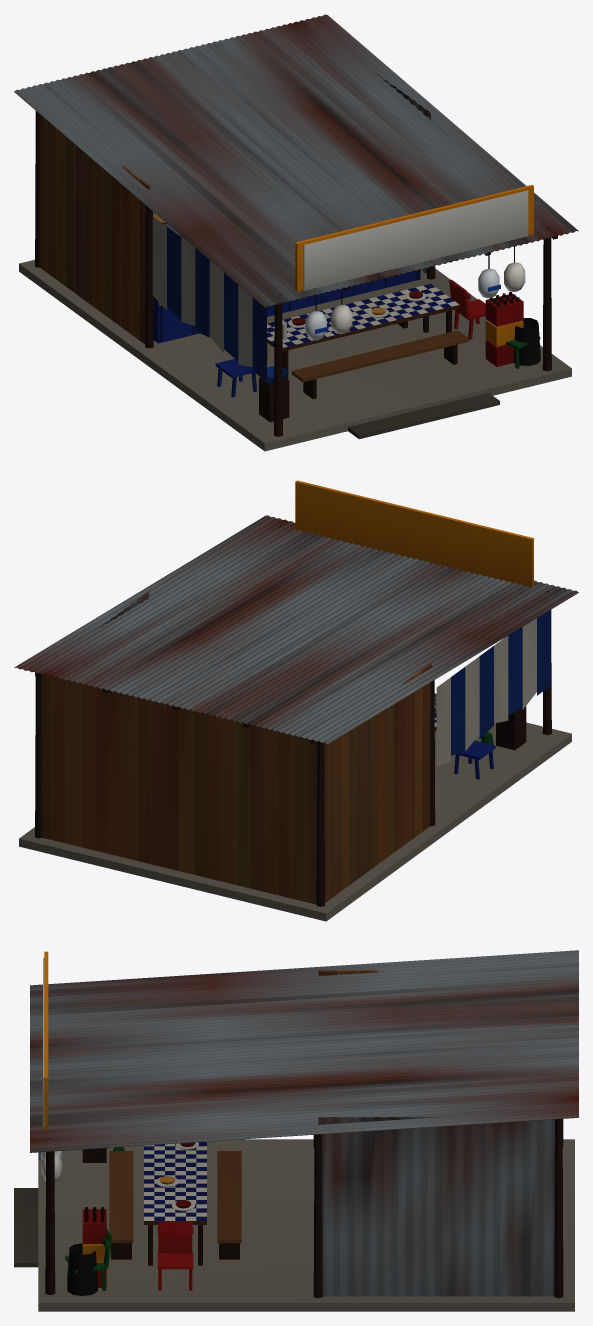
File: bk_buka.glb
The picture shows the model from 3 angles, top to bottom: view 1: azimuth 30°, elevation 25°; view 2: azimuth 150°, elevation 25°; view 3: azimuth 270°, elevation 25°; orthographic projection. The views are drawn at different scales.
Visible parts, largest first — view 1: bk_buka; view 2: bk_buka; view 3: bk_buka.
Part boxes in pixels (x1=…): bk_buka: x1=14, y1=14, x2=578, y2=451; bk_buka: x1=14, y1=480, x2=578, y2=921; bk_buka: x1=14, y1=950, x2=578, y2=1311.
Size of the model in its own units: 4.9 by 2.94 by 7.
